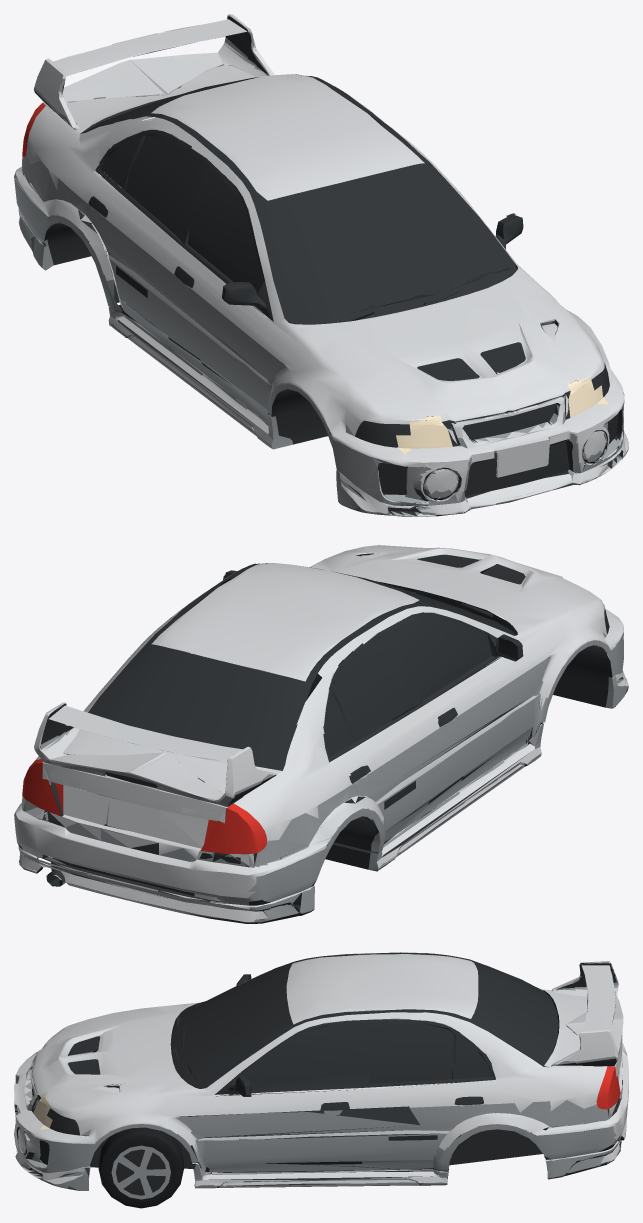
Rendered from rally-sedan.glb.
3 renders of one model, top to bottom at view 1: azimuth 30°, elevation 25°; view 2: azimuth 150°, elevation 25°; view 3: azimuth 270°, elevation 25°, orthographic. The views are drawn at different scales.
Visible parts, largest first — view 1: Car body, Car trim, Car wheel discs, Car headlamps; view 2: Car body, Car trim, Car wheel discs, Car tail lamps; view 3: Car body, Car trim, Car wheel discs, Wheel tyre, Wheel rim, Wheel well, Car tail lamps, Car headlamps.
Part boxes in pixels (x1,y1,x2,y2): Car body: (14, 14, 628, 516); Car trim: (19, 16, 626, 516); Car wheel discs: (14, 15, 628, 516); Car headlamps: (396, 377, 608, 453); Car body: (14, 545, 628, 922); Car trim: (17, 553, 627, 923); Car wheel discs: (14, 552, 628, 922); Car tail lamps: (22, 759, 266, 854); Car body: (14, 952, 628, 1186); Car trim: (15, 952, 624, 1190); Car wheel discs: (14, 961, 626, 1190); Wheel tyre: (98, 1127, 183, 1208); Wheel rim: (111, 1145, 170, 1199); Wheel well: (114, 1145, 165, 1195); Car tail lamps: (596, 1066, 620, 1109); Car headlamps: (33, 1039, 52, 1129).
Bounding box in the file's own units: 1.89 × 1.42 × 4.35.
